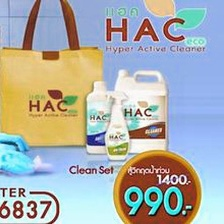cleaning_solution: (109, 67, 171, 158), (82, 79, 119, 157), (101, 88, 133, 165)
